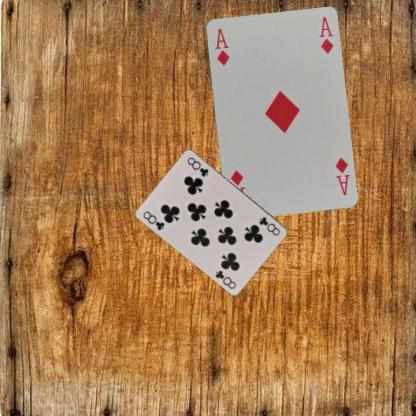8c: (257, 214, 282, 237), (141, 209, 166, 232)
Ad: (332, 155, 351, 196), (212, 26, 231, 66)
